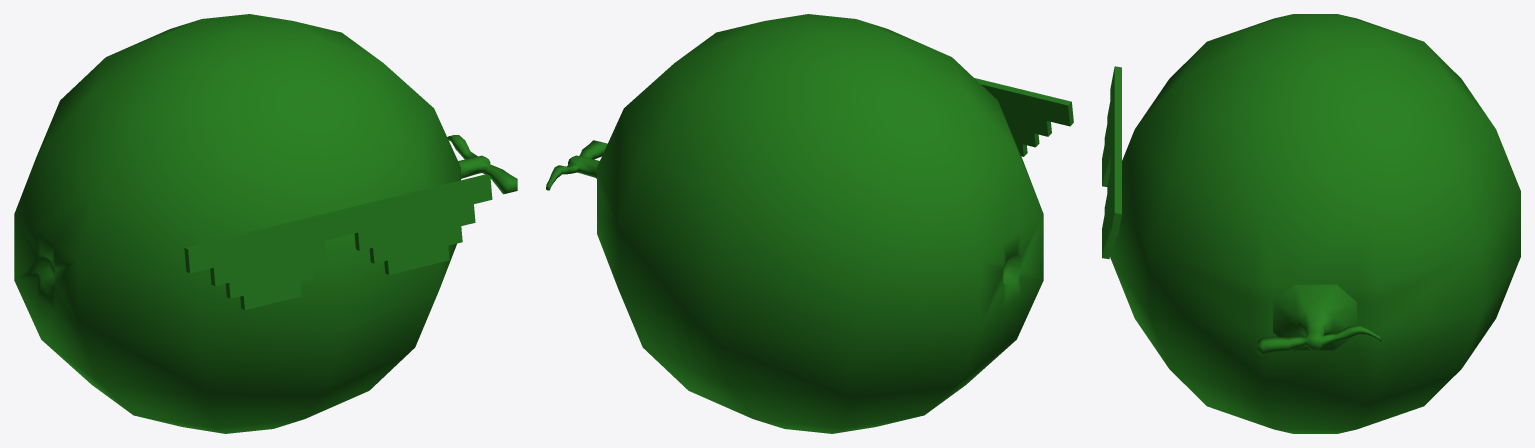
The model's file is melon.obj.
3 renders of one model, left to right at view 1: azimuth 30°, elevation 25°; view 2: azimuth 150°, elevation 25°; view 3: azimuth 270°, elevation 25°, orthographic.
Parts seen in each view (by area): view 1: body_low, sunglasses, tail; view 2: body_low, sunglasses, tail; view 3: body_low, tail, sunglasses.
Boxes of the visible parts, x1=… form: body_low: x1=14, y1=14, x2=460, y2=433; sunglasses: x1=184, y1=174, x2=492, y2=309; tail: x1=447, y1=135, x2=517, y2=194; body_low: x1=597, y1=14, x2=1043, y2=433; sunglasses: x1=974, y1=78, x2=1073, y2=156; tail: x1=546, y1=140, x2=607, y2=190; body_low: x1=1110, y1=14, x2=1520, y2=433; tail: x1=1257, y1=284, x2=1381, y2=356; sunglasses: x1=1102, y1=66, x2=1121, y2=259.
Bounding box in the file's own units: 9.8 × 8 × 8.03.
